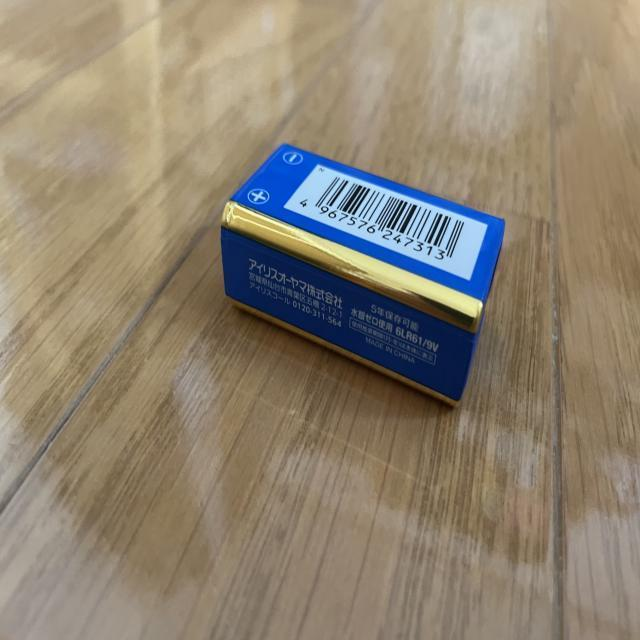9V: (219, 143, 509, 403)
